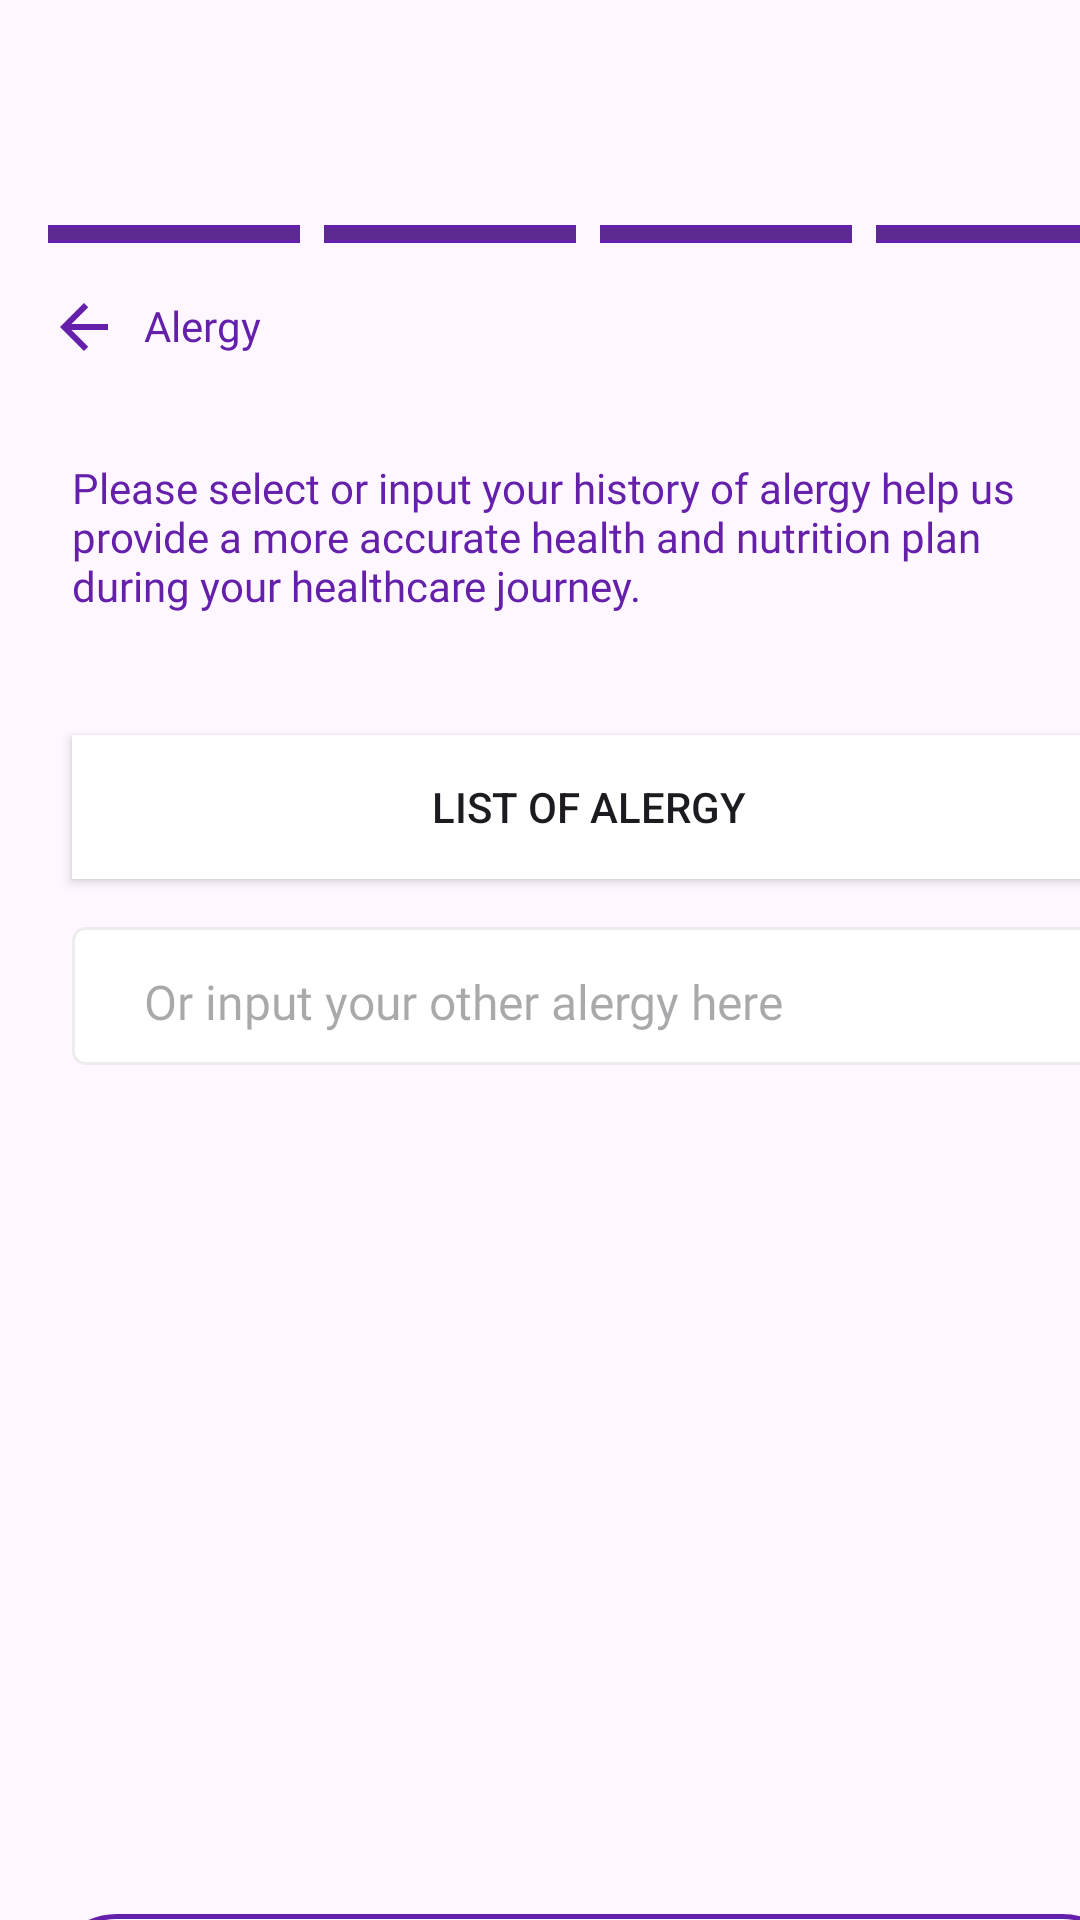

Point at icon controls on the screen. Image size 1080×1920, points as [x,y].
arrowback: [84,327]
